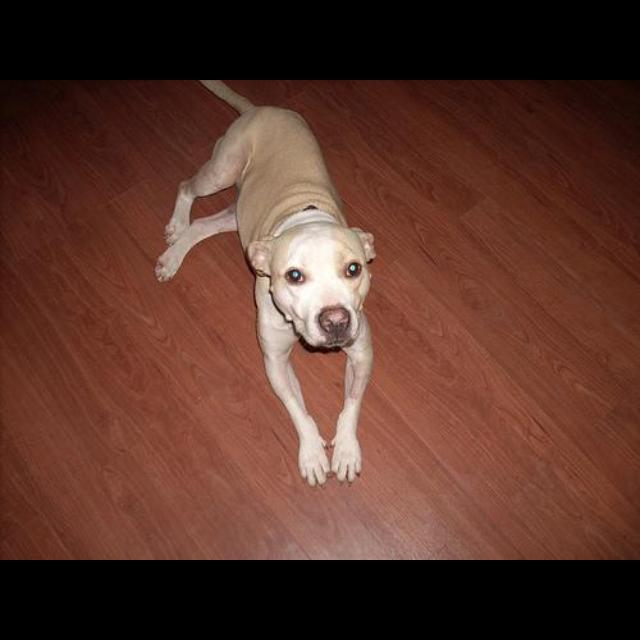amstaff: (153, 82, 377, 489)
